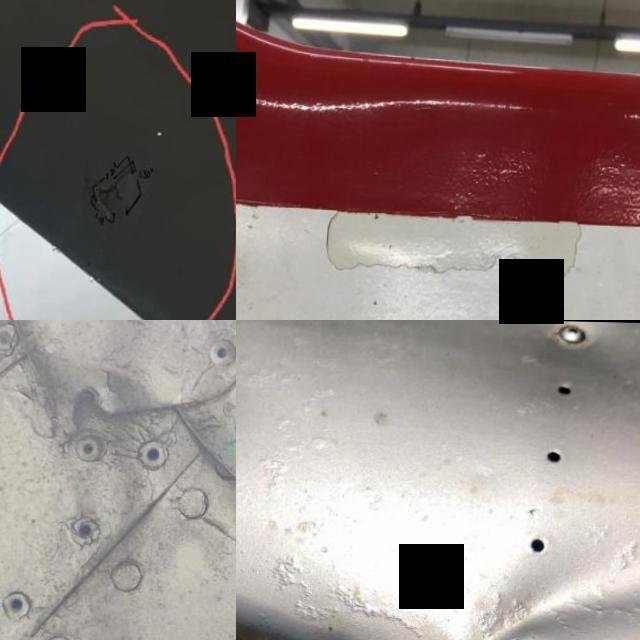Crack: (320, 183, 598, 320), (99, 162, 146, 218)
Dent: (424, 521, 640, 640)
